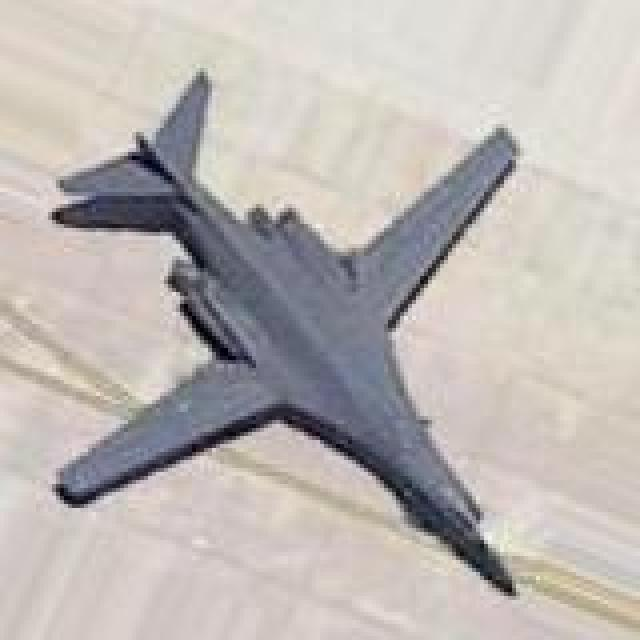B-1_TopDown: (44, 64, 524, 596)
